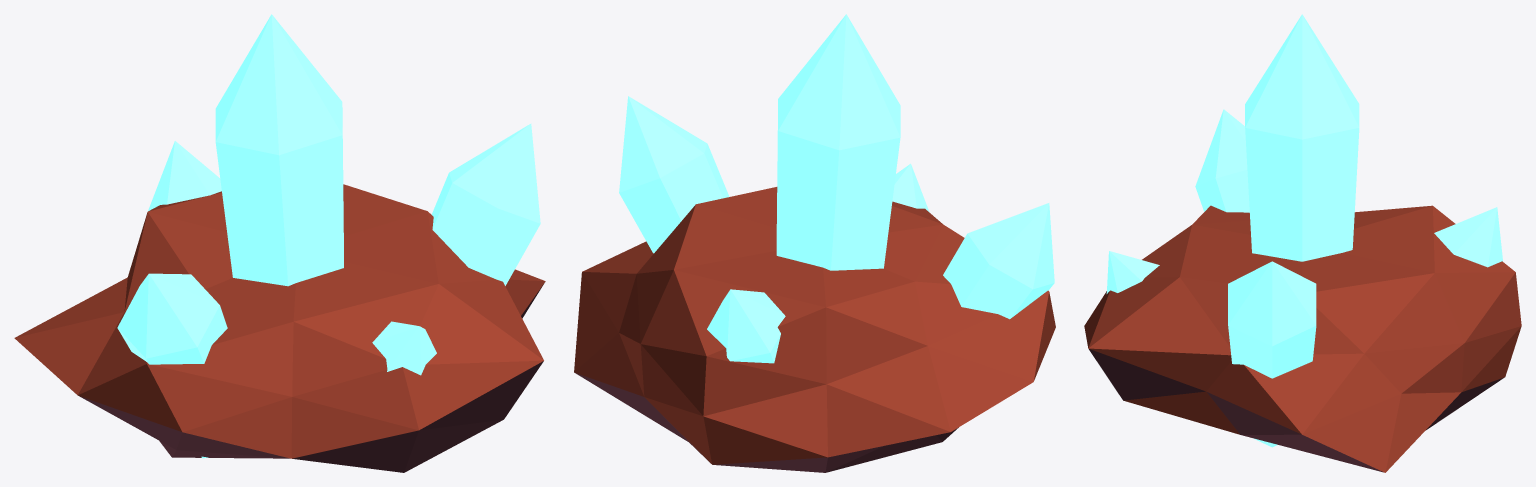
File: Rock_Crystal_Cluster_A.fbx
3 views of the same model, side by side, from view 1: azimuth 30°, elevation 25°; view 2: azimuth 150°, elevation 25°; view 3: azimuth 270°, elevation 25° (orthographic). The views are drawn at different scales.
Parts seen in each view (by area): view 1: Rock_Crystal_Cluster_A; view 2: Rock_Crystal_Cluster_A; view 3: Rock_Crystal_Cluster_A.
Boxes of the visible parts, left/top/right/bottom form: Rock_Crystal_Cluster_A: left=14, top=14, right=545, bottom=472; Rock_Crystal_Cluster_A: left=574, top=14, right=1055, bottom=472; Rock_Crystal_Cluster_A: left=1084, top=14, right=1521, bottom=472.
Size of the model in its own units: 1.62 by 1.39 by 1.46.
